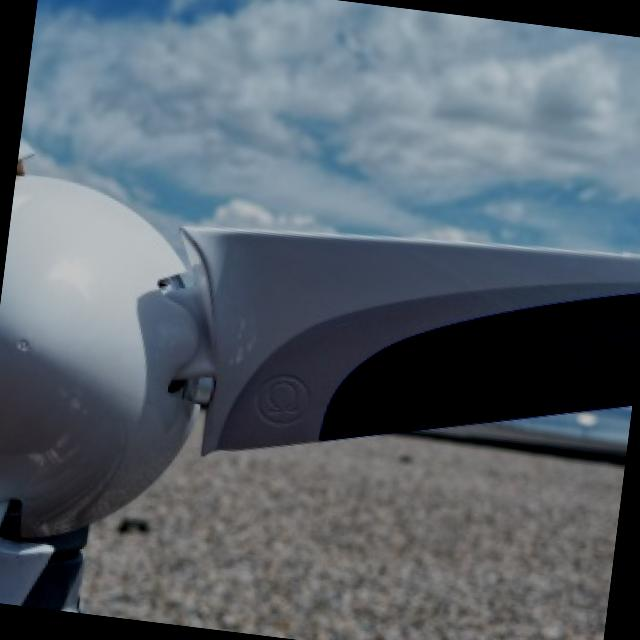healthy: (0, 173, 640, 606)
